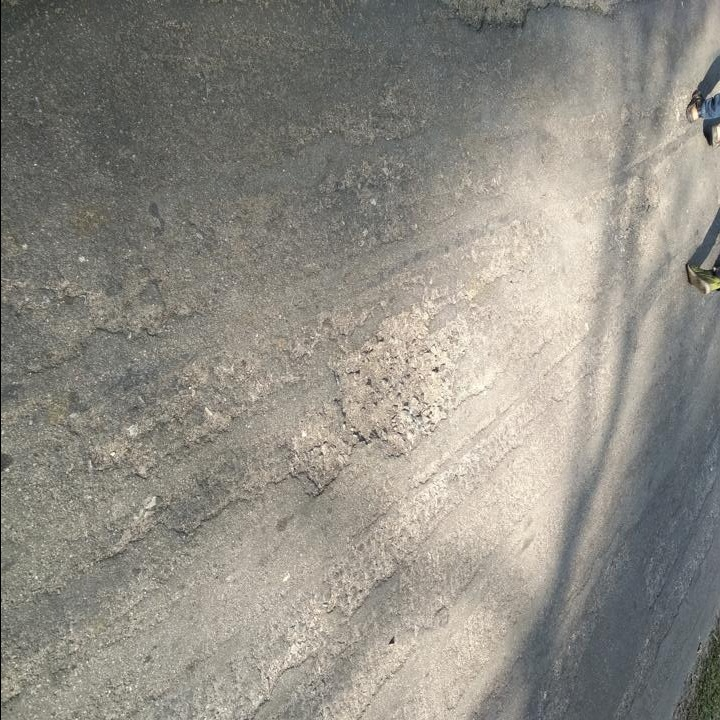pothole: (336, 300, 451, 455), (290, 423, 347, 495)
